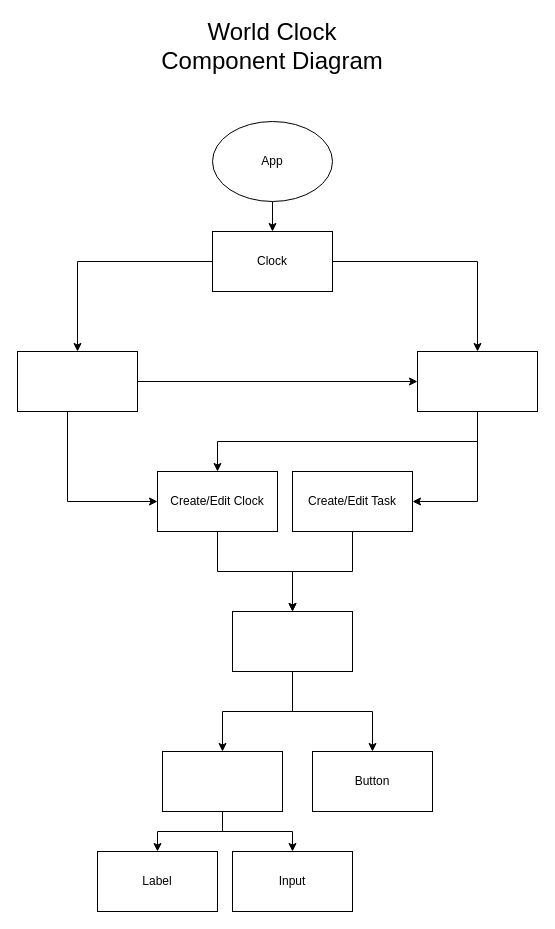
Image size: 555x929. Some labels were removed from this diagram. The shapes that lost their labels are listed below. From the top down, each one's centre as x and y in pixels, then its label:
point (77, 381): ClocksList
point (477, 381): ClockView
point (292, 641): Form
point (222, 781): InputElement
